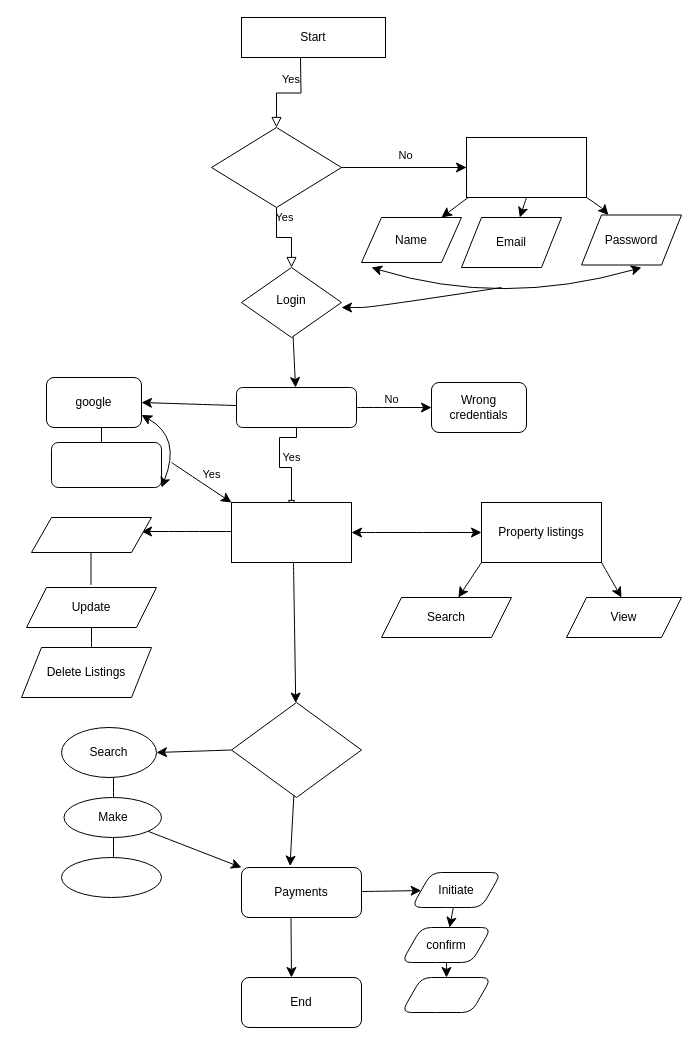
This 699x1045 diagram has some shape labels left out. The shapes that lost their labels are listed below. From the top down, each one's box as (x1, y1, x2, y2) in pixels, then its label:
(210, 126, 342, 208): User Registered?
(466, 136, 586, 198): Signup
(236, 386, 356, 428): User authentication
(50, 442, 162, 488): Facebook
(30, 516, 152, 552): Create
(230, 502, 352, 562): Property management
(230, 702, 362, 798): Booking System
(60, 856, 162, 898): View Bookings
(400, 976, 492, 1012): View history
